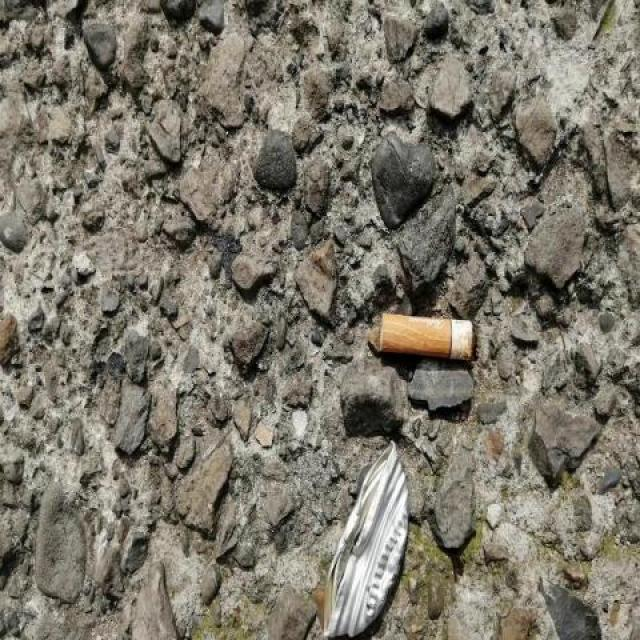non-organic waste: (375, 308, 480, 364)
